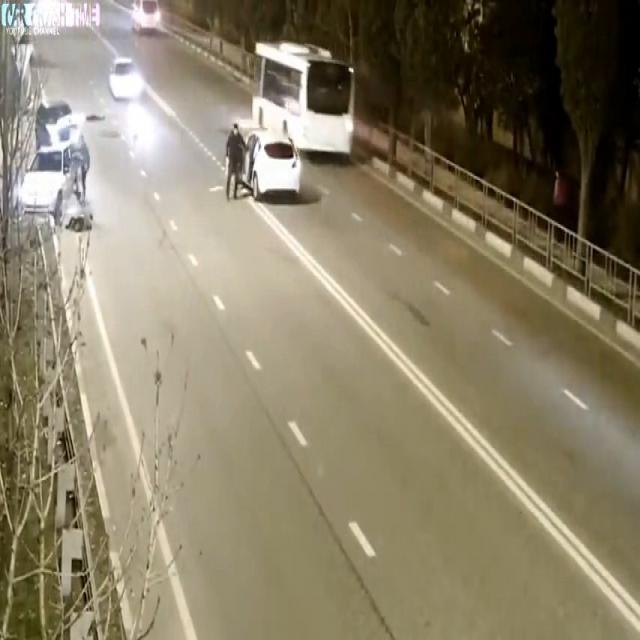Accident: (4, 79, 90, 254)
